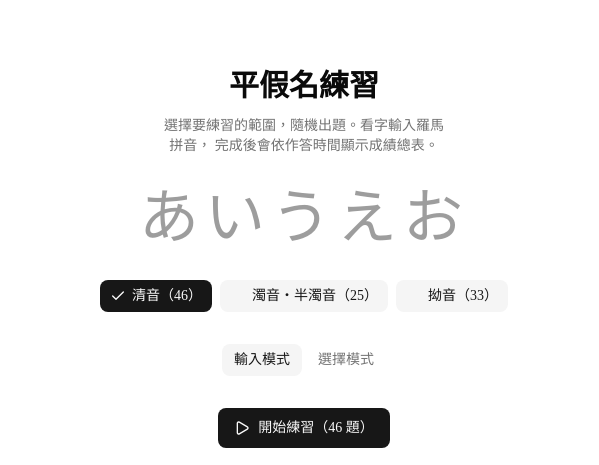
Scenario: practice flow › a wrong answer is marked and shows the correct romaji
The width and height of the screenshot is (599, 465).
Step 1. Click the button "開始練習（46 題）" → coordinates (304, 428), box [218, 408, 390, 448]
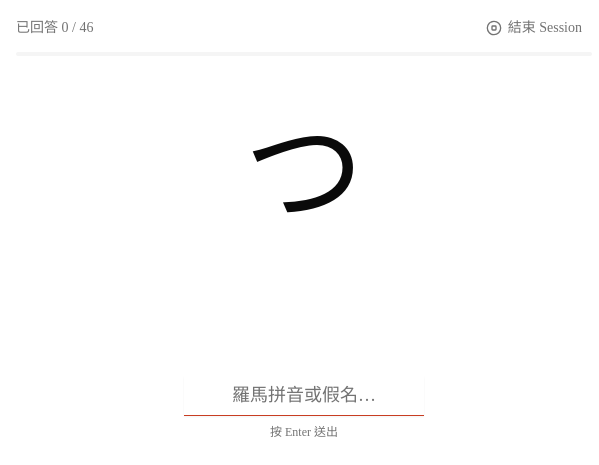
Step 2. Type keys "zzz{Enter}"
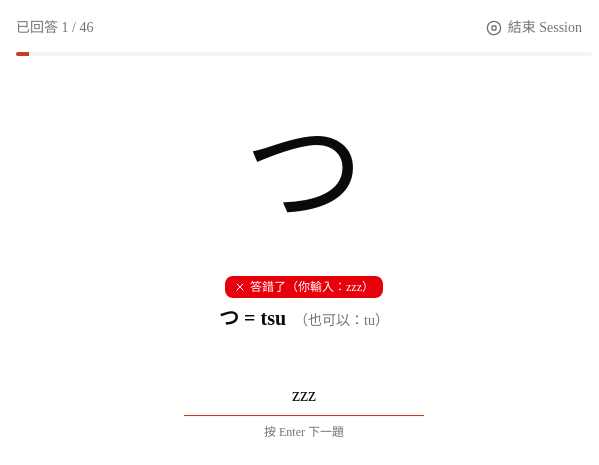
Expected: the text "答錯了（你輸入：zzz）" is shown, [225, 276, 383, 298]
